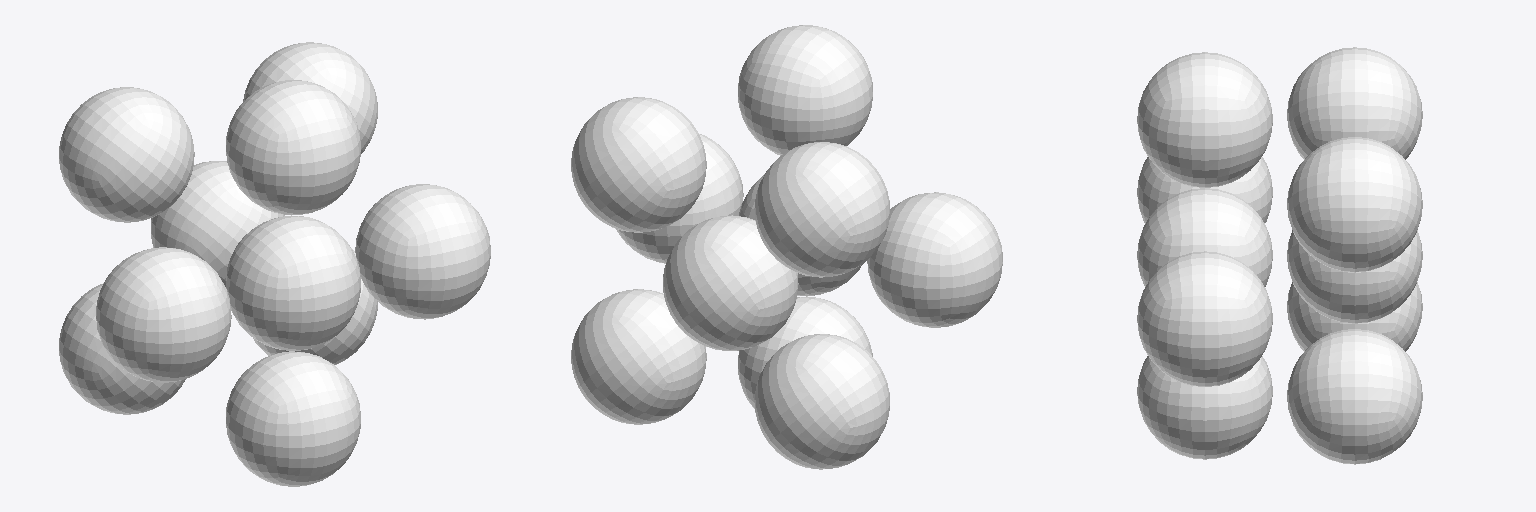
The model's file is Ten.obj.
3 views of the same model, side by side, from view 1: azimuth 30°, elevation 25°; view 2: azimuth 150°, elevation 25°; view 3: azimuth 270°, elevation 25° (orthographic).
Visible parts, largest first — view 1: CountThreePrefab__2__Scene.006, CountThreePrefab_Scene.004, CountThreePrefab_1_Scene.009, CountThreePrefab__1__Scene.005, CountTenPrefab_Scene.003, CountThreePrefab__3__Scene.007, CountFivePrefab_Scene.008, CountThreePrefab__2__1_Scene.011, CountThreePrefab__3__1_Scene.012, CountThreePrefab__1__1_Scene.010; view 2: CountThreePrefab__3__1_Scene.012, CountThreePrefab__2__1_Scene.011, CountThreePrefab_1_Scene.009, CountThreePrefab__2__Scene.006, CountThreePrefab_Scene.004, CountThreePrefab__1__1_Scene.010, CountFivePrefab_Scene.008, CountThreePrefab__3__Scene.007, CountThreePrefab__1__Scene.005, CountTenPrefab_Scene.003; view 3: CountThreePrefab__3__Scene.007, CountThreePrefab_Scene.004, CountThreePrefab__1__1_Scene.010, CountThreePrefab__3__1_Scene.012, CountThreePrefab_1_Scene.009, CountThreePrefab__1__Scene.005, CountTenPrefab_Scene.003, CountFivePrefab_Scene.008, CountThreePrefab__2__1_Scene.011, CountThreePrefab__2__Scene.006.
Part boxes in pixels (left/top/right/bottom): CountThreePrefab__2__Scene.006: left=96, top=247, right=231, bottom=382; CountThreePrefab_Scene.004: left=226, top=80, right=360, bottom=214; CountThreePrefab_1_Scene.009: left=59, top=87, right=194, bottom=222; CountThreePrefab__1__Scene.005: left=226, top=351, right=360, bottom=486; CountTenPrefab_Scene.003: left=226, top=215, right=360, bottom=350; CountThreePrefab__3__Scene.007: left=355, top=184, right=490, bottom=319; CountFivePrefab_Scene.008: left=151, top=161, right=284, bottom=286; CountThreePrefab__2__1_Scene.011: left=59, top=283, right=185, bottom=414; CountThreePrefab__3__1_Scene.012: left=243, top=42, right=377, bottom=153; CountThreePrefab__1__1_Scene.010: left=253, top=248, right=377, bottom=364; CountThreePrefab__3__1_Scene.012: left=571, top=97, right=706, bottom=232; CountThreePrefab__2__1_Scene.011: left=754, top=334, right=889, bottom=469; CountThreePrefab_1_Scene.009: left=754, top=142, right=889, bottom=277; CountThreePrefab__2__Scene.006: left=867, top=192, right=1002, bottom=327; CountThreePrefab_Scene.004: left=738, top=25, right=872, bottom=155; CountThreePrefab__1__1_Scene.010: left=571, top=289, right=706, bottom=424; CountFivePrefab_Scene.008: left=663, top=215, right=798, bottom=350; CountThreePrefab__3__Scene.007: left=616, top=134, right=743, bottom=263; CountThreePrefab__1__Scene.005: left=738, top=296, right=872, bottom=408; CountTenPrefab_Scene.003: left=739, top=174, right=862, bottom=295; CountThreePrefab__3__Scene.007: left=1137, top=251, right=1272, bottom=386; CountThreePrefab_Scene.004: left=1137, top=52, right=1272, bottom=187; CountThreePrefab__1__1_Scene.010: left=1287, top=329, right=1422, bottom=464; CountThreePrefab__3__1_Scene.012: left=1287, top=137, right=1422, bottom=272; CountThreePrefab_1_Scene.009: left=1287, top=47, right=1422, bottom=159; CountThreePrefab__1__Scene.005: left=1137, top=356, right=1272, bottom=459; CountTenPrefab_Scene.003: left=1137, top=188, right=1272, bottom=286; CountFivePrefab_Scene.008: left=1287, top=230, right=1422, bottom=323; CountThreePrefab__2__1_Scene.011: left=1287, top=282, right=1422, bottom=351; CountThreePrefab__2__Scene.006: left=1137, top=157, right=1272, bottom=223.
Size of the model in its own units: 0.096 by 0.096 by 0.063.